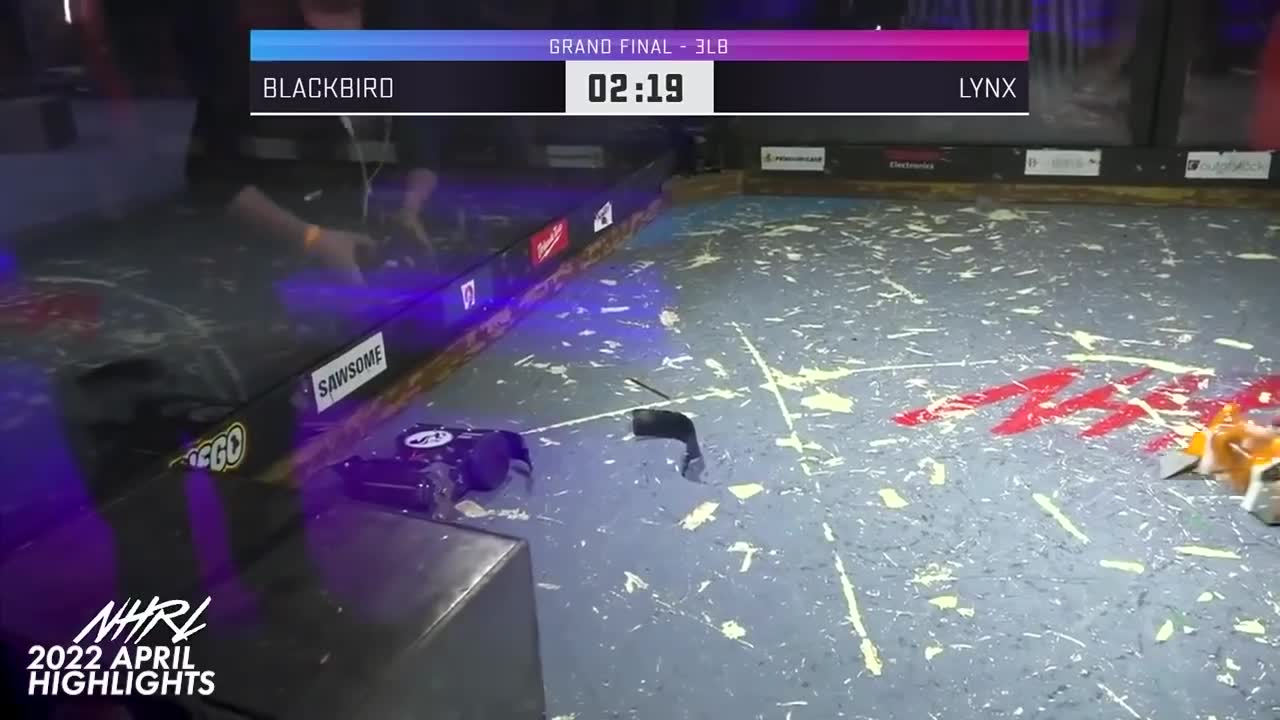combatbot: (324, 421, 534, 519), (1159, 367, 1280, 533)
debris: (630, 404, 710, 480)
housebot: (0, 457, 545, 720)
